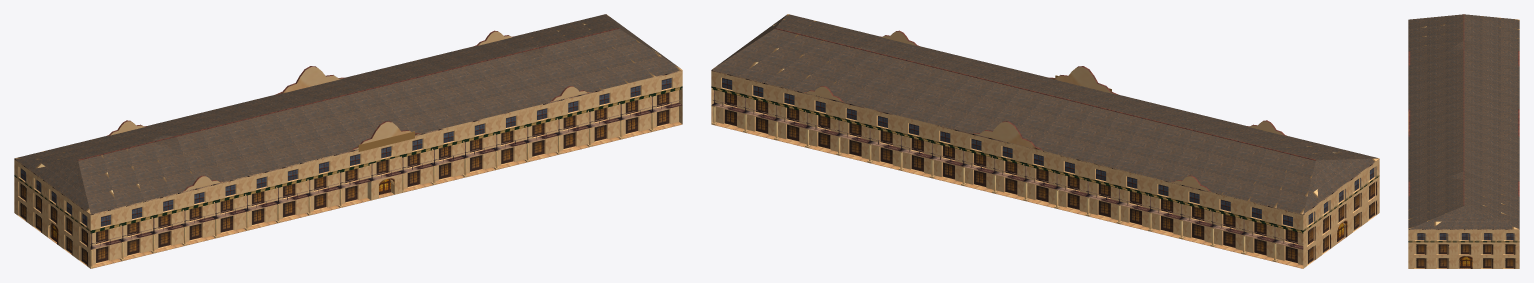
File: LM_HollywoodHotel.fbx
The picture shows the model from 3 angles, left to right: view 1: azimuth 30°, elevation 25°; view 2: azimuth 150°, elevation 25°; view 3: azimuth 270°, elevation 25°; orthographic projection. The views are drawn at different scales.
Parts seen in each view (by area): view 1: LM_HollywoodHotel; view 2: LM_HollywoodHotel; view 3: LM_HollywoodHotel.
Part boxes in pixels (x1,y1,x2,y2): LM_HollywoodHotel: (14,14,682,268); LM_HollywoodHotel: (711,14,1379,268); LM_HollywoodHotel: (1408,14,1519,268).
Size of the model in its own units: 116 by 26.02 by 14.
1 material, 1 textured.
